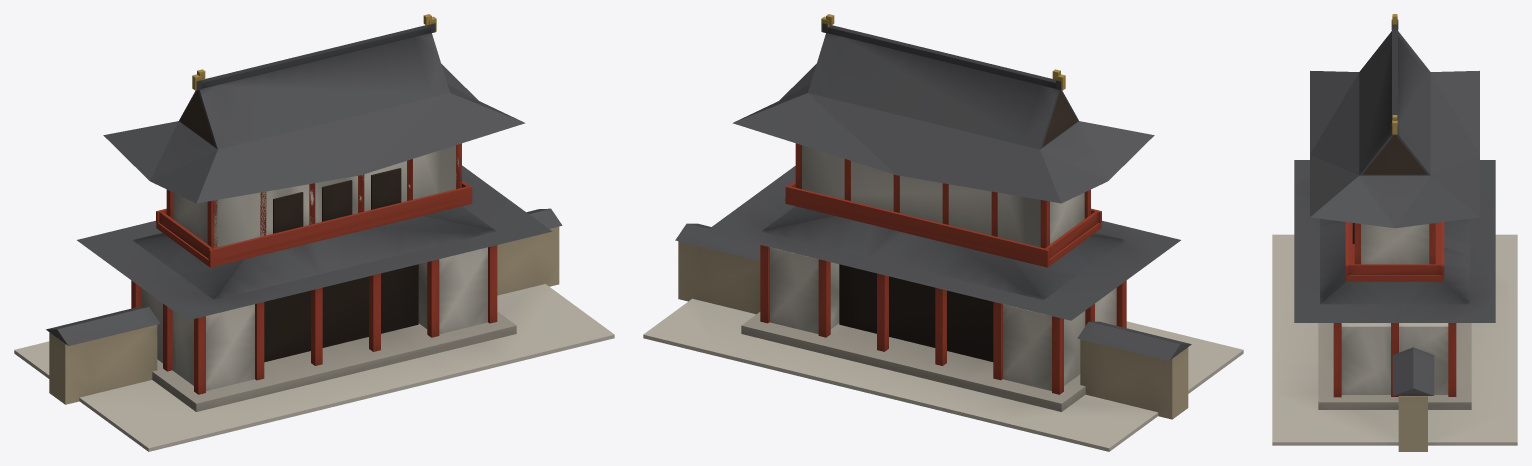
The model's file is suzakumon.glb.
3 views of the same model, side by side, from view 1: azimuth 30°, elevation 25°; view 2: azimuth 150°, elevation 25°; view 3: azimuth 270°, elevation 25° (orthographic). The views are drawn at different scales.
Visible parts, largest first — view 1: p2_roofs, p1_halls, p0_grounds; view 2: p2_roofs, p1_halls, p0_grounds; view 3: p2_roofs, p0_grounds, p1_halls.
Part boxes in pixels (left/top/right/bottom): p2_roofs: left=77, top=14, right=552, bottom=320; p1_halls: left=131, top=143, right=516, bottom=411; p0_grounds: left=14, top=208, right=614, bottom=451; p2_roofs: left=705, top=14, right=1180, bottom=320; p1_halls: left=741, top=143, right=1126, bottom=411; p0_grounds: left=643, top=223, right=1243, bottom=451; p2_roofs: left=1294, top=14, right=1495, bottom=322; p0_grounds: left=1272, top=234, right=1517, bottom=451; p1_halls: left=1318, top=222, right=1471, bottom=409.
Size of the model in its own units: 42.42 by 24.83 by 20.
